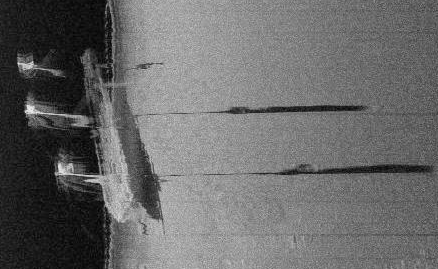ship: (16, 45, 150, 228)
